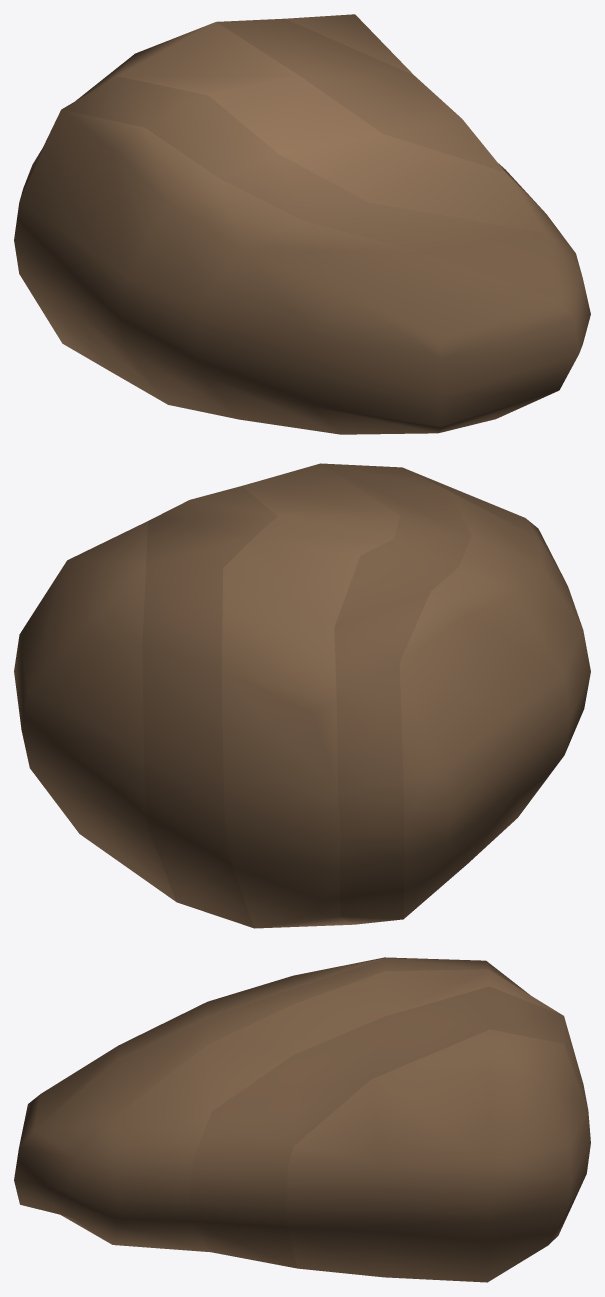
The model's file is SandstonePebble.001.glb.
3 views of the same model, one above another, from view 1: azimuth 30°, elevation 25°; view 2: azimuth 150°, elevation 25°; view 3: azimuth 270°, elevation 25° (orthographic). The views are drawn at different scales.
Visible parts, largest first — view 1: SandstonePebble.001; view 2: SandstonePebble.001; view 3: SandstonePebble.001.
Boxes of the visible parts, bbox=[...] form: SandstonePebble.001: bbox=[14, 14, 590, 434]; SandstonePebble.001: bbox=[14, 463, 590, 928]; SandstonePebble.001: bbox=[14, 957, 590, 1282].
Bounding box in the file's own units: 9.58 × 7.1 × 13.21.
